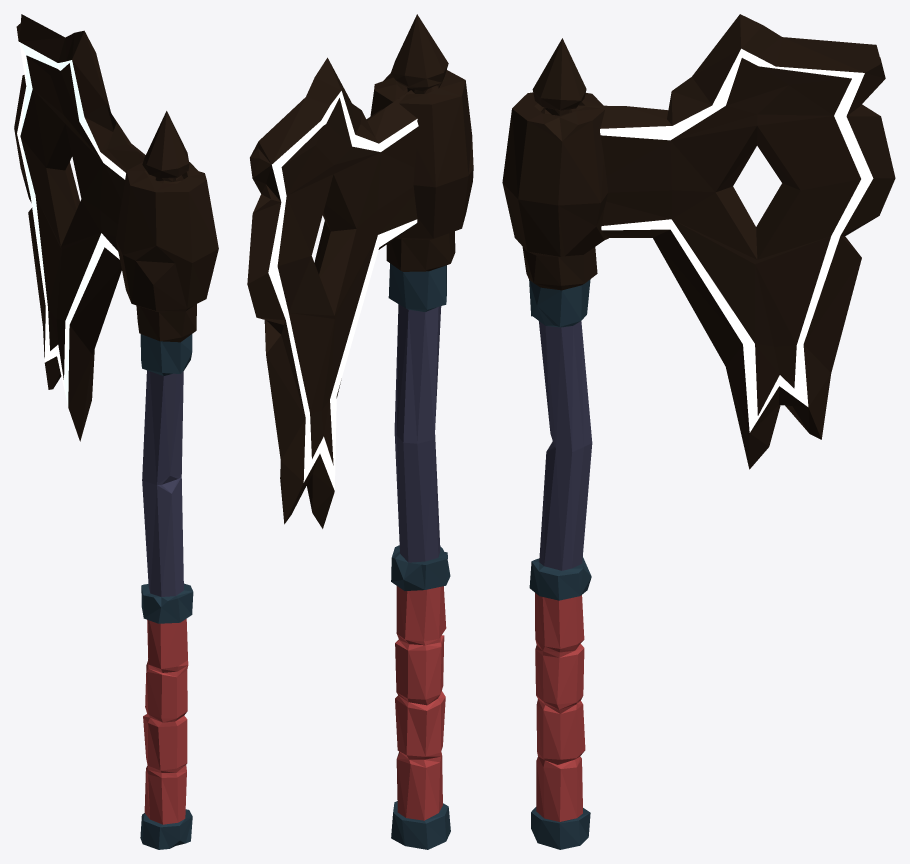
File: SFFA_Weapon_Axe_Iron_004.fbx
The picture shows the model from 3 angles, left to right: view 1: azimuth 30°, elevation 25°; view 2: azimuth 150°, elevation 25°; view 3: azimuth 270°, elevation 25°; orthographic projection. The views are drawn at different scales.
Visible parts, largest first — view 1: SFFA_Weapon_Axe_Iron_004; view 2: SFFA_Weapon_Axe_Iron_004; view 3: SFFA_Weapon_Axe_Iron_004.
Boxes of the visible parts, <box> form: SFFA_Weapon_Axe_Iron_004: <box>14,14,218,849</box>; SFFA_Weapon_Axe_Iron_004: <box>247,14,473,849</box>; SFFA_Weapon_Axe_Iron_004: <box>502,14,895,849</box>.
Bounding box in the file's own units: 6.92 × 56.76 × 24.44.
